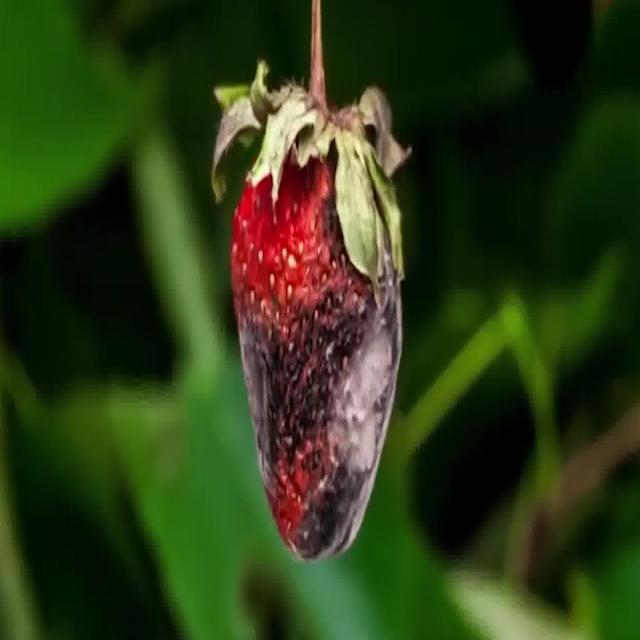Moho gris: (220, 128, 421, 608)
